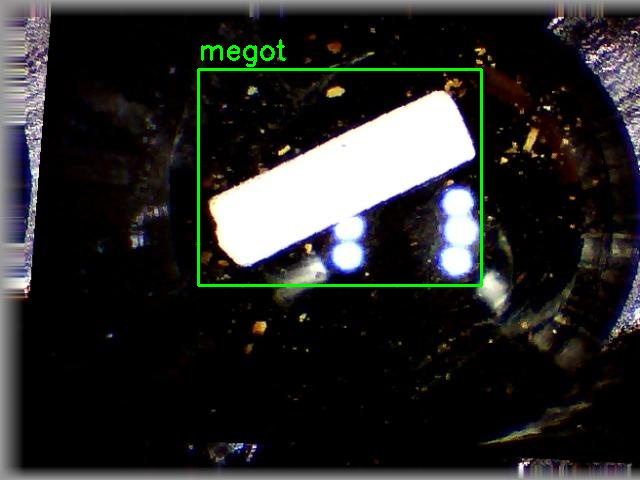megot: (198, 69, 481, 285)
